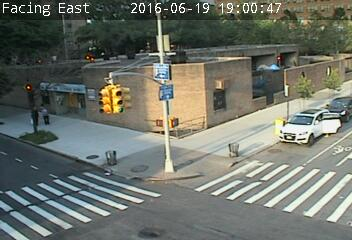neg: (260, 82, 281, 110), (188, 105, 207, 129), (175, 46, 193, 71), (47, 49, 60, 66)
pos: (36, 101, 54, 125), (25, 105, 43, 128)
